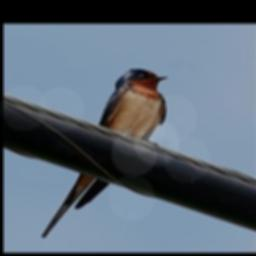Swallow: (41, 66, 169, 237)
